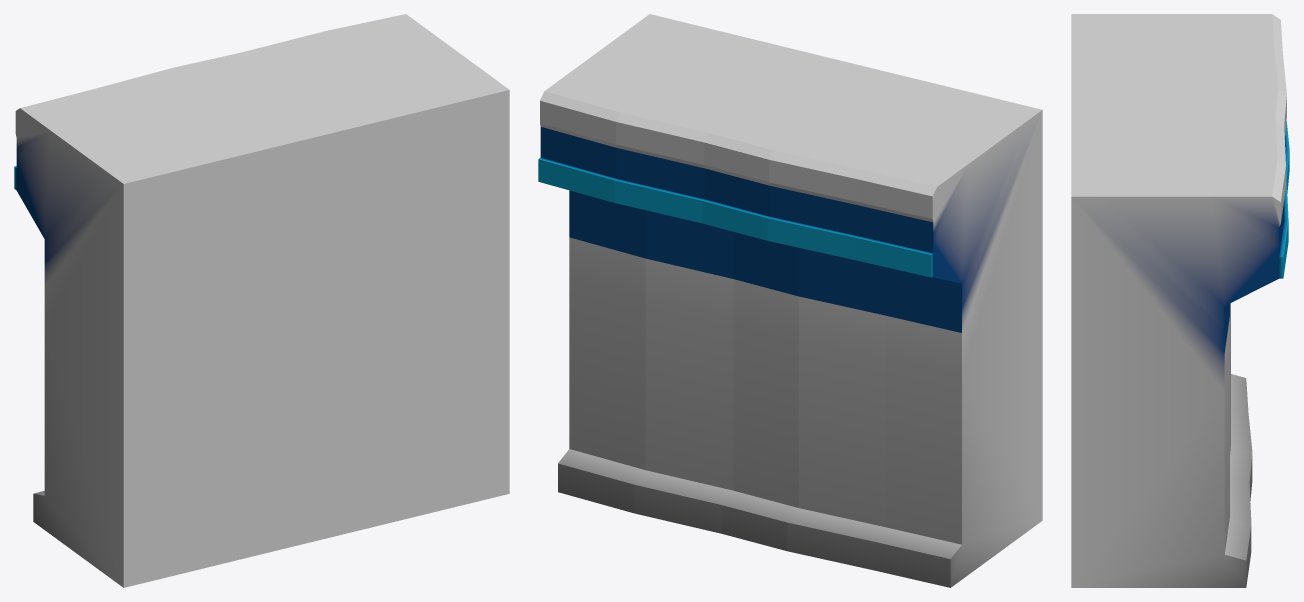
The model's file is NeonCityV5_Edge_V8.fbx.
3 renders of one model, left to right at view 1: azimuth 30°, elevation 25°; view 2: azimuth 150°, elevation 25°; view 3: azimuth 270°, elevation 25°, orthographic. The views are drawn at different scales.
Parts seen in each view (by area): view 1: NeonCityV5_Edge_V8; view 2: NeonCityV5_Edge_V8; view 3: NeonCityV5_Edge_V8.
Boxes of the visible parts, box(x1,y1,x2,y2) form: NeonCityV5_Edge_V8: box(14, 14, 509, 587); NeonCityV5_Edge_V8: box(538, 14, 1042, 587); NeonCityV5_Edge_V8: box(1071, 14, 1289, 587).
Bounding box in the file's own units: 1 × 1 × 0.5053.
